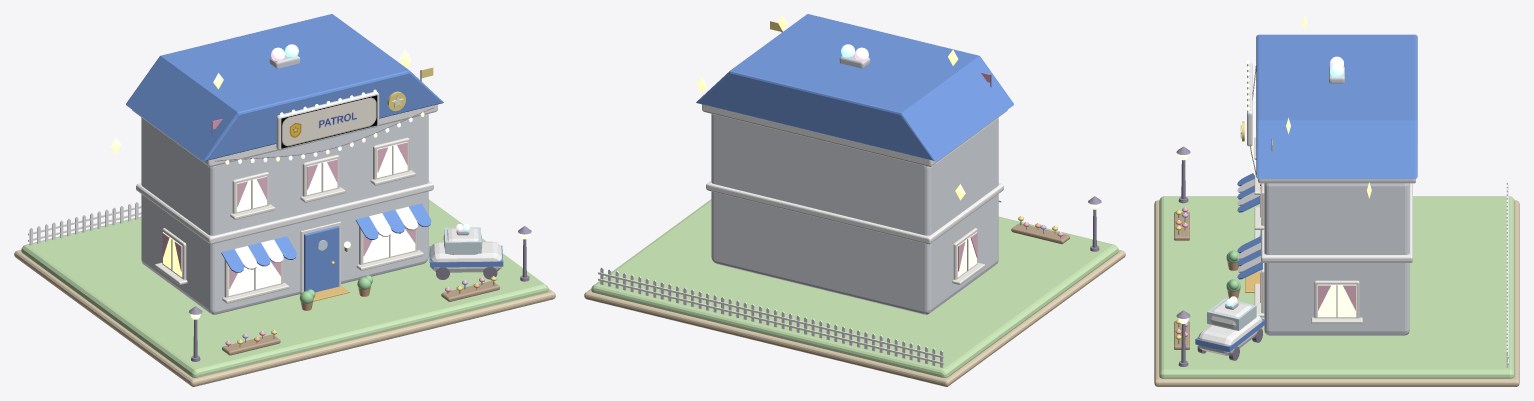
Rendered from building_police_L10.glb.
3 views of the same model, side by side, from view 1: azimuth 30°, elevation 25°; view 2: azimuth 150°, elevation 25°; view 3: azimuth 270°, elevation 25° (orthographic).
Parts seen in each view (by area): view 1: police_L10, object 9, object 2, object 3, object 6, object 8, object 7; view 2: police_L10; view 3: police_L10, object 5.
Part boxes in pixels (<box>): police_L10: <box>14,14,555,386</box>; object 9: <box>281,95,377,148</box>; object 2: <box>228,261,280,295</box>; object 3: <box>363,229,415,263</box>; object 6: <box>236,176,266,212</box>; object 8: <box>377,142,407,177</box>; object 7: <box>307,159,337,194</box>; police_L10: <box>584,14,1125,386</box>; police_L10: <box>1154,14,1519,386</box>; object 5: <box>1317,284,1356,317</box>.
Bounding box in the file's own units: 26.61 × 16.56 × 22.6.
40 materials, 1 textured.
